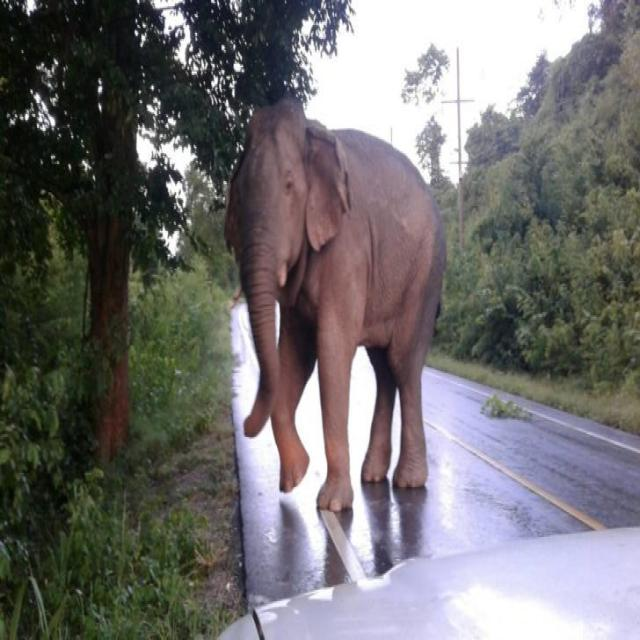Elephant: (230, 102, 446, 510)
